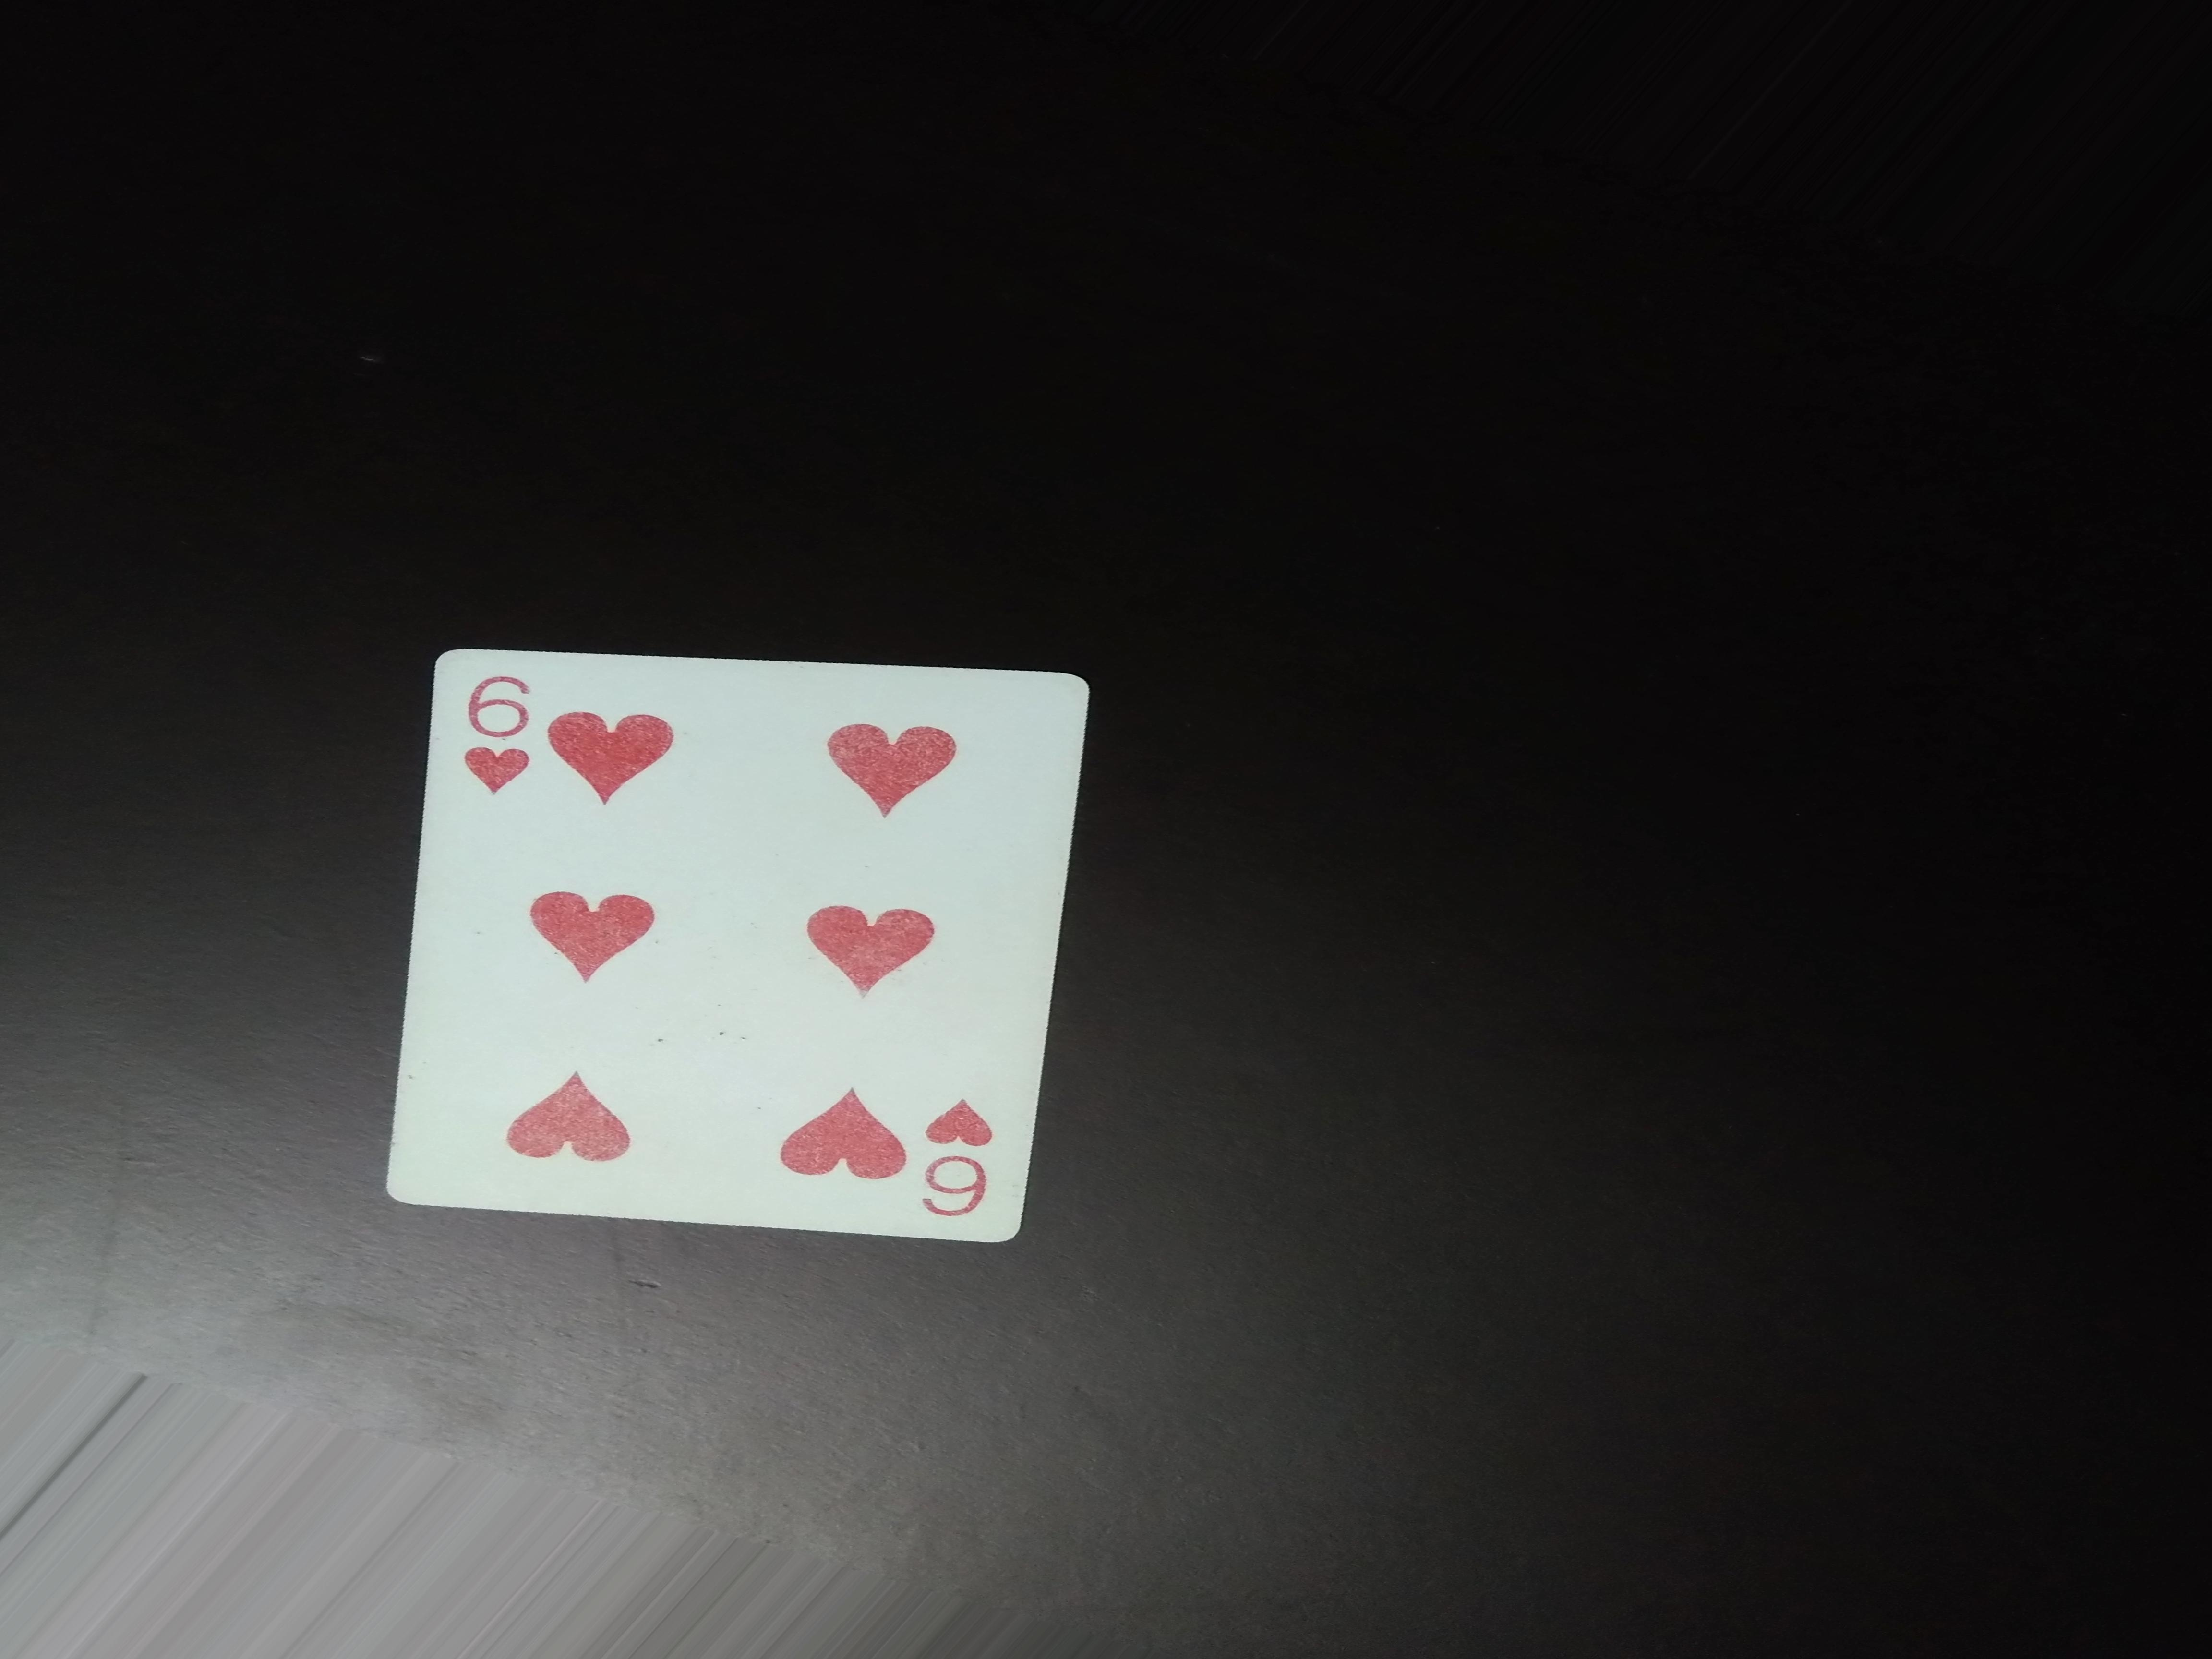6H: (913, 1087, 1024, 1232)
